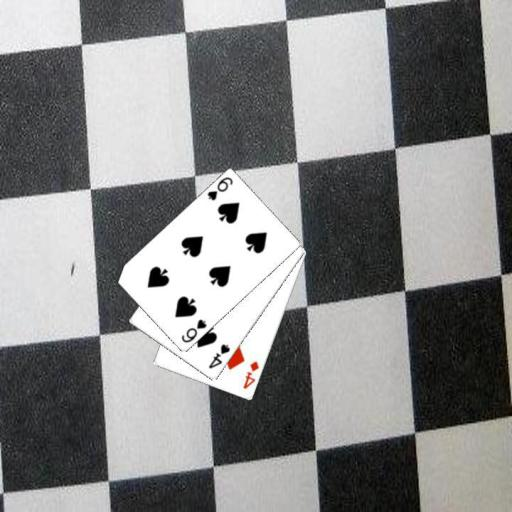4D: (240, 359, 261, 391)
4S: (205, 342, 232, 371)
6S: (178, 316, 208, 345), (204, 174, 235, 202)
